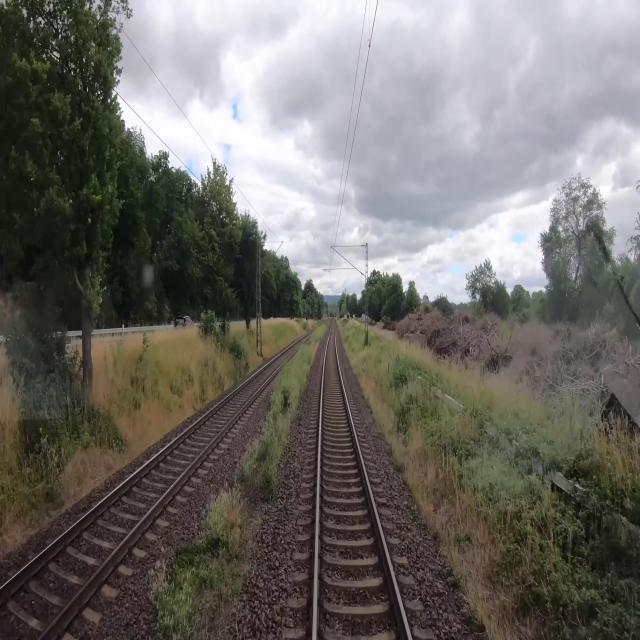Plant: (150, 323, 326, 639)
